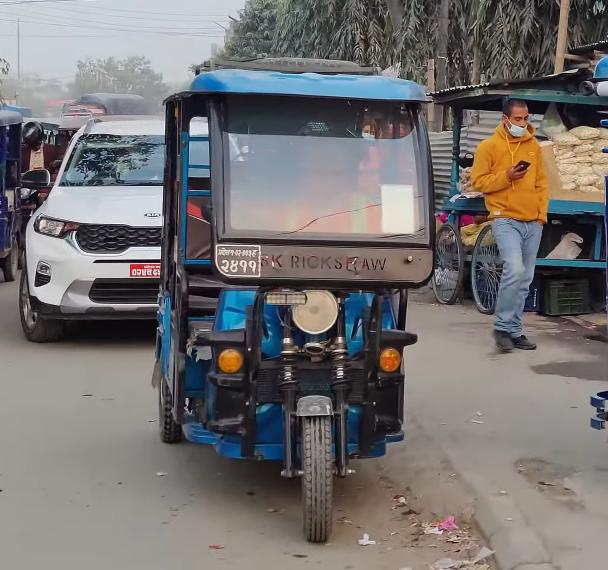car: (16, 110, 170, 350)
e-rickshaw: (147, 45, 430, 552)
